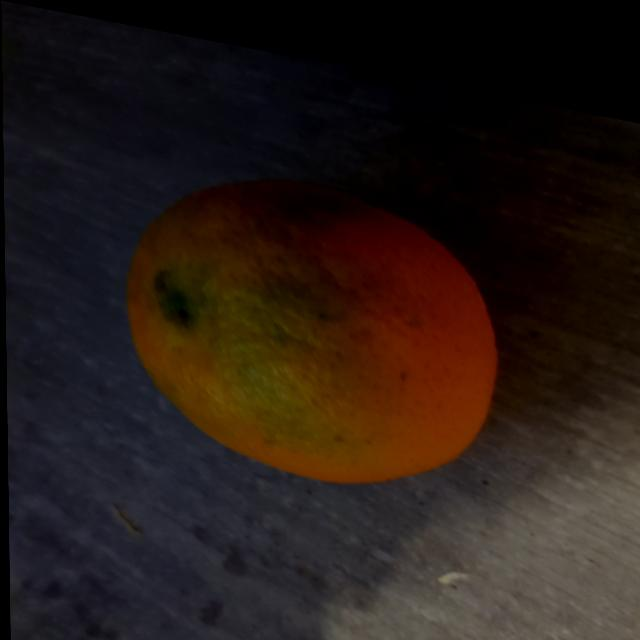Orange: (123, 168, 495, 471)
